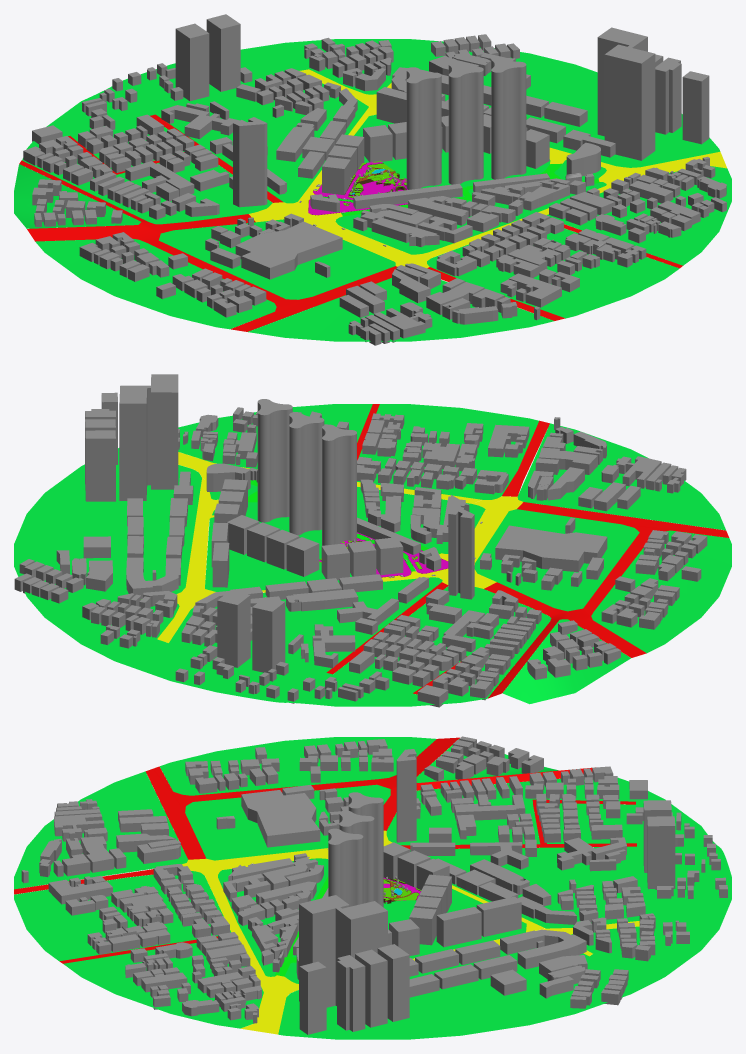
Rendered from enviroment.fbx.
3 renders of one model, top to bottom at view 1: azimuth 30°, elevation 25°; view 2: azimuth 150°, elevation 25°; view 3: azimuth 270°, elevation 25°, orthographic.
Parts seen in each view (by area): view 1: City, circle, Road_3, Road_2, Enviroment; view 2: City, circle, Road_3, Road_2, Enviroment; view 3: City, circle, Road_3, Road_2, Enviroment.
Part boxes in pixels (<box>): City: <box>23,14,726,345</box>; circle: <box>14,39,731,341</box>; Road_3: <box>19,114,682,331</box>; Road_2: <box>249,69,726,268</box>; Enviroment: <box>308,161,407,215</box>; City: <box>14,374,707,707</box>; circle: <box>14,404,731,706</box>; Road_3: <box>326,404,729,698</box>; Road_2: <box>157,452,522,642</box>; Enviroment: <box>319,532,448,577</box>; City: <box>21,736,727,1034</box>; circle: <box>14,737,731,1039</box>; Road_3: <box>14,737,636,963</box>; Road_2: <box>182,830,639,1034</box>; Enviroment: <box>383,876,421,903</box>.
Size of the model in its own units: 96410 by 17892 by 96649.
